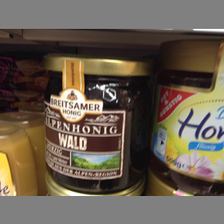honey: (44, 56, 153, 192)
